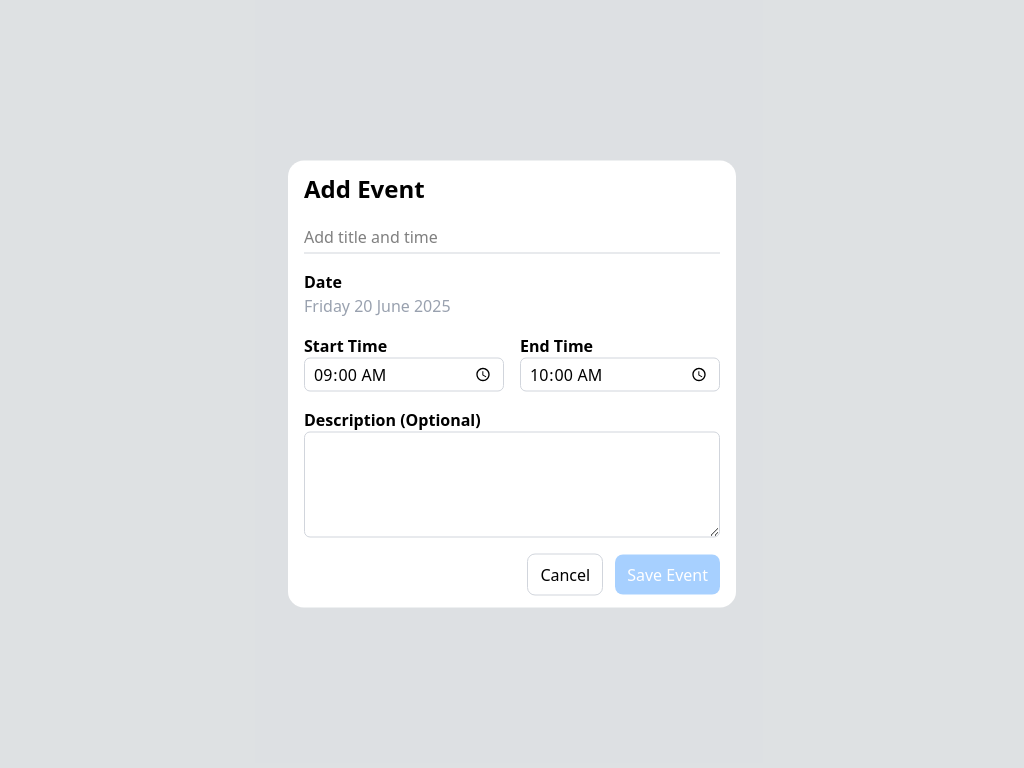
Test: CreateEvent › clears time error when time inputs are changed
The width and height of the screenshot is (1024, 768).
Type "Test Event" into the field with placeholder "Add title and time" at (512, 237), box [304,220,720,254]
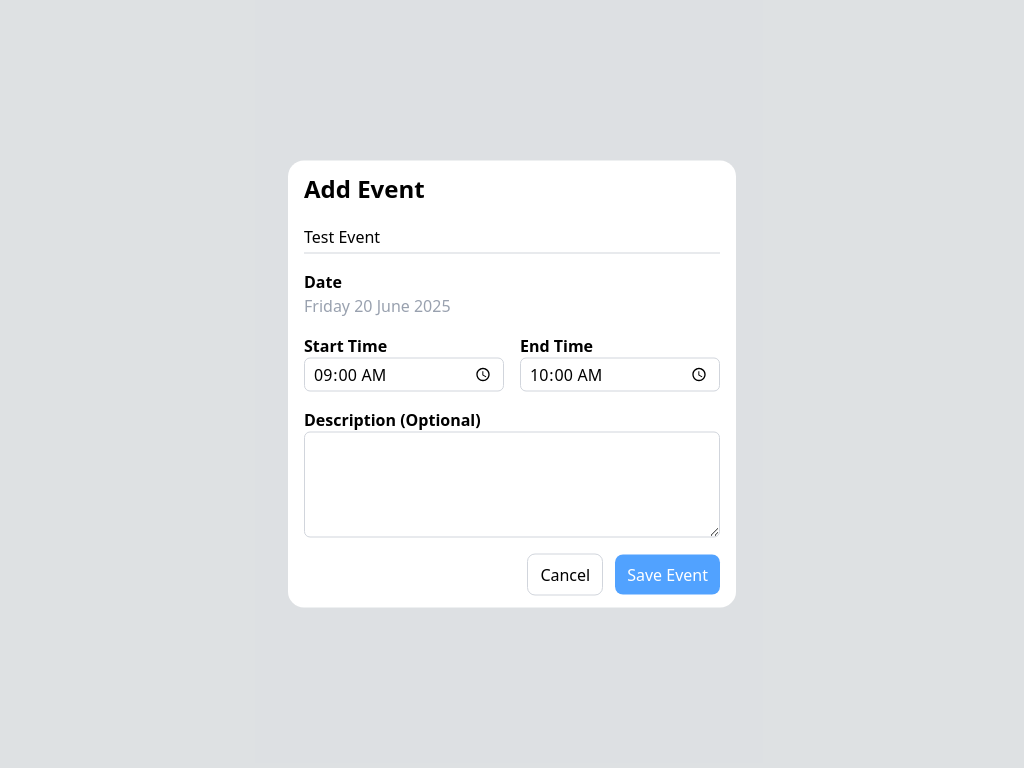
Replace the text in the time field labelled "start time" with "10:00" at (404, 374), box [304,358,504,392]
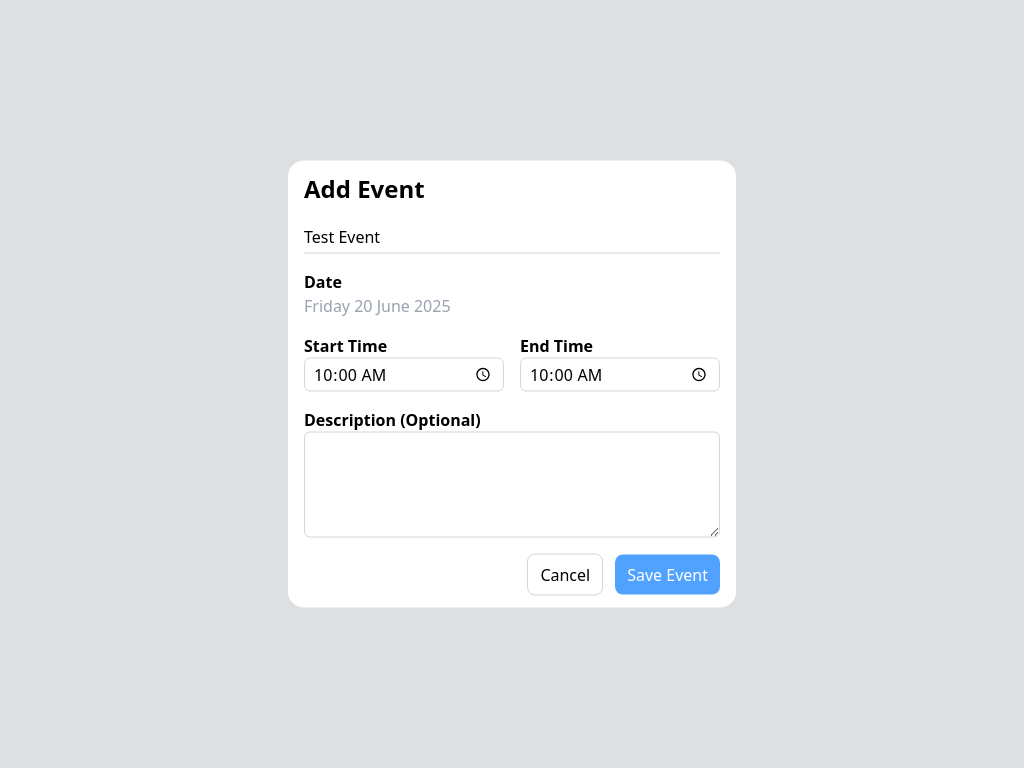
Replace the text in the time field labelled "end time" with "09:00" at (620, 374), box [520,358,720,392]
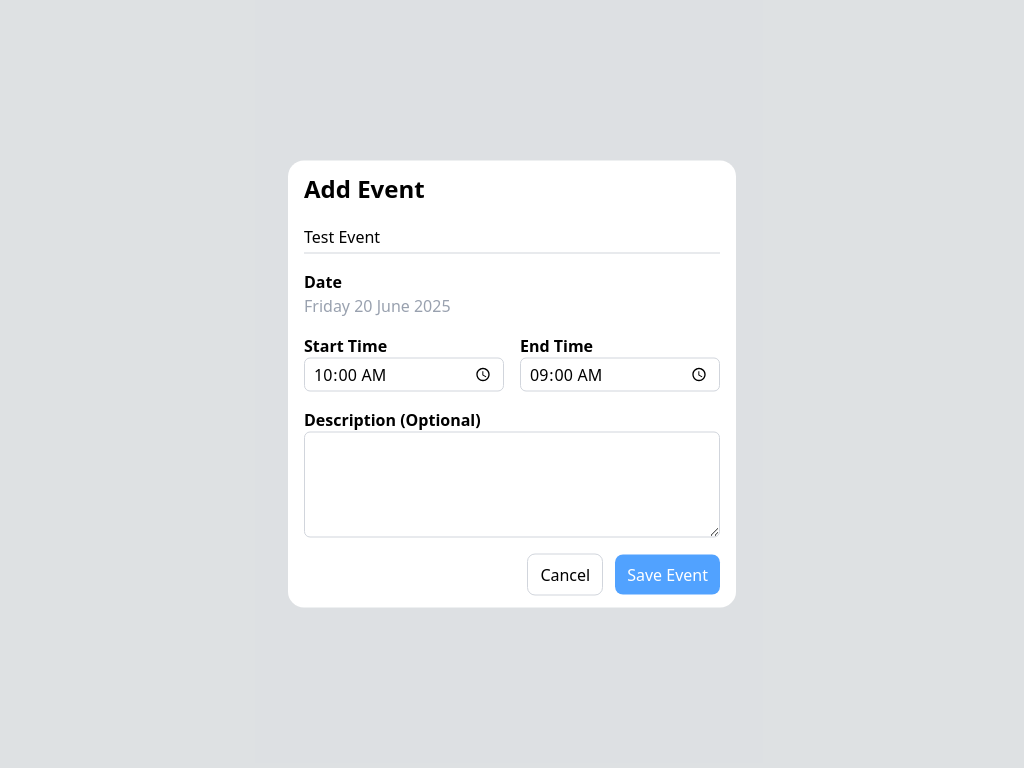
Click the button "save event" at (668, 574), box [615,554,720,594]
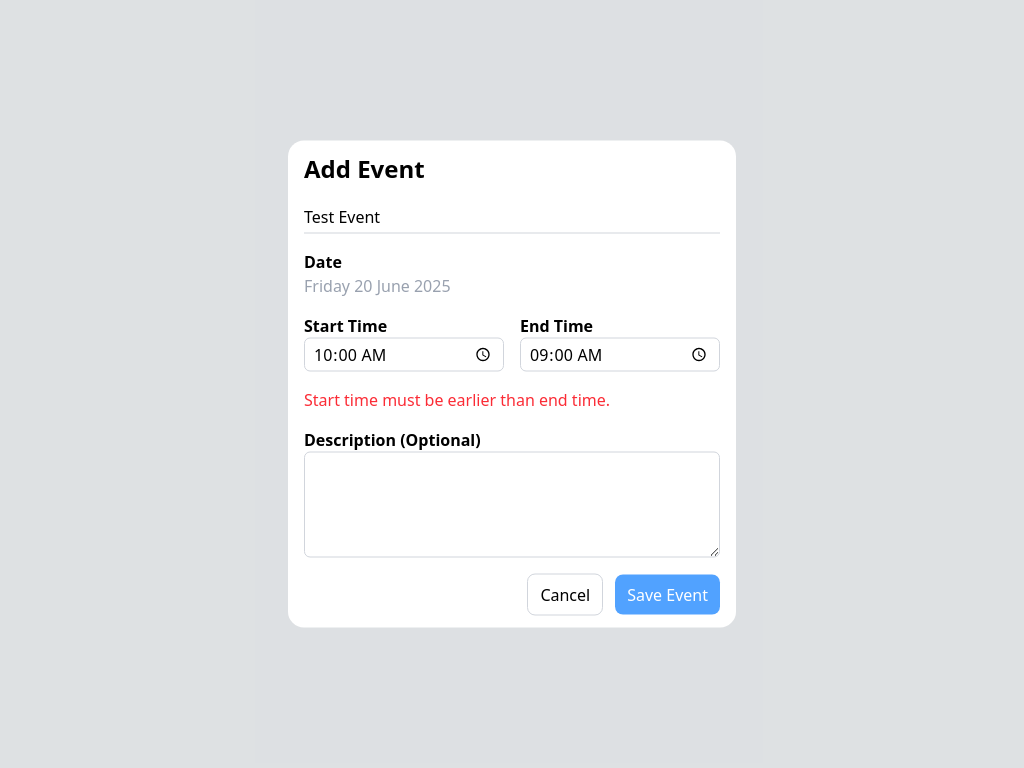
Result: the text "Start time must be earlier than end time." is shown at [304,388,610,410]
Replace the text in the time field labelled "end time" with "11:00" at (620, 354), box [520,338,720,372]
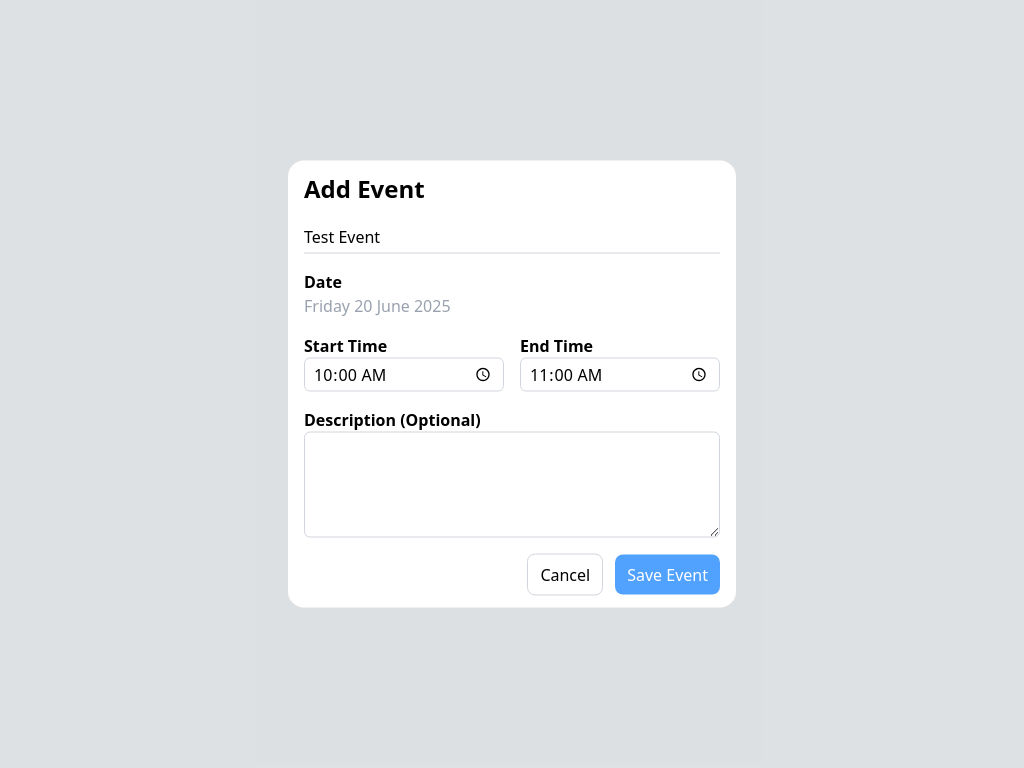
Result: the text "Start time must be earlier than end time" is gone
